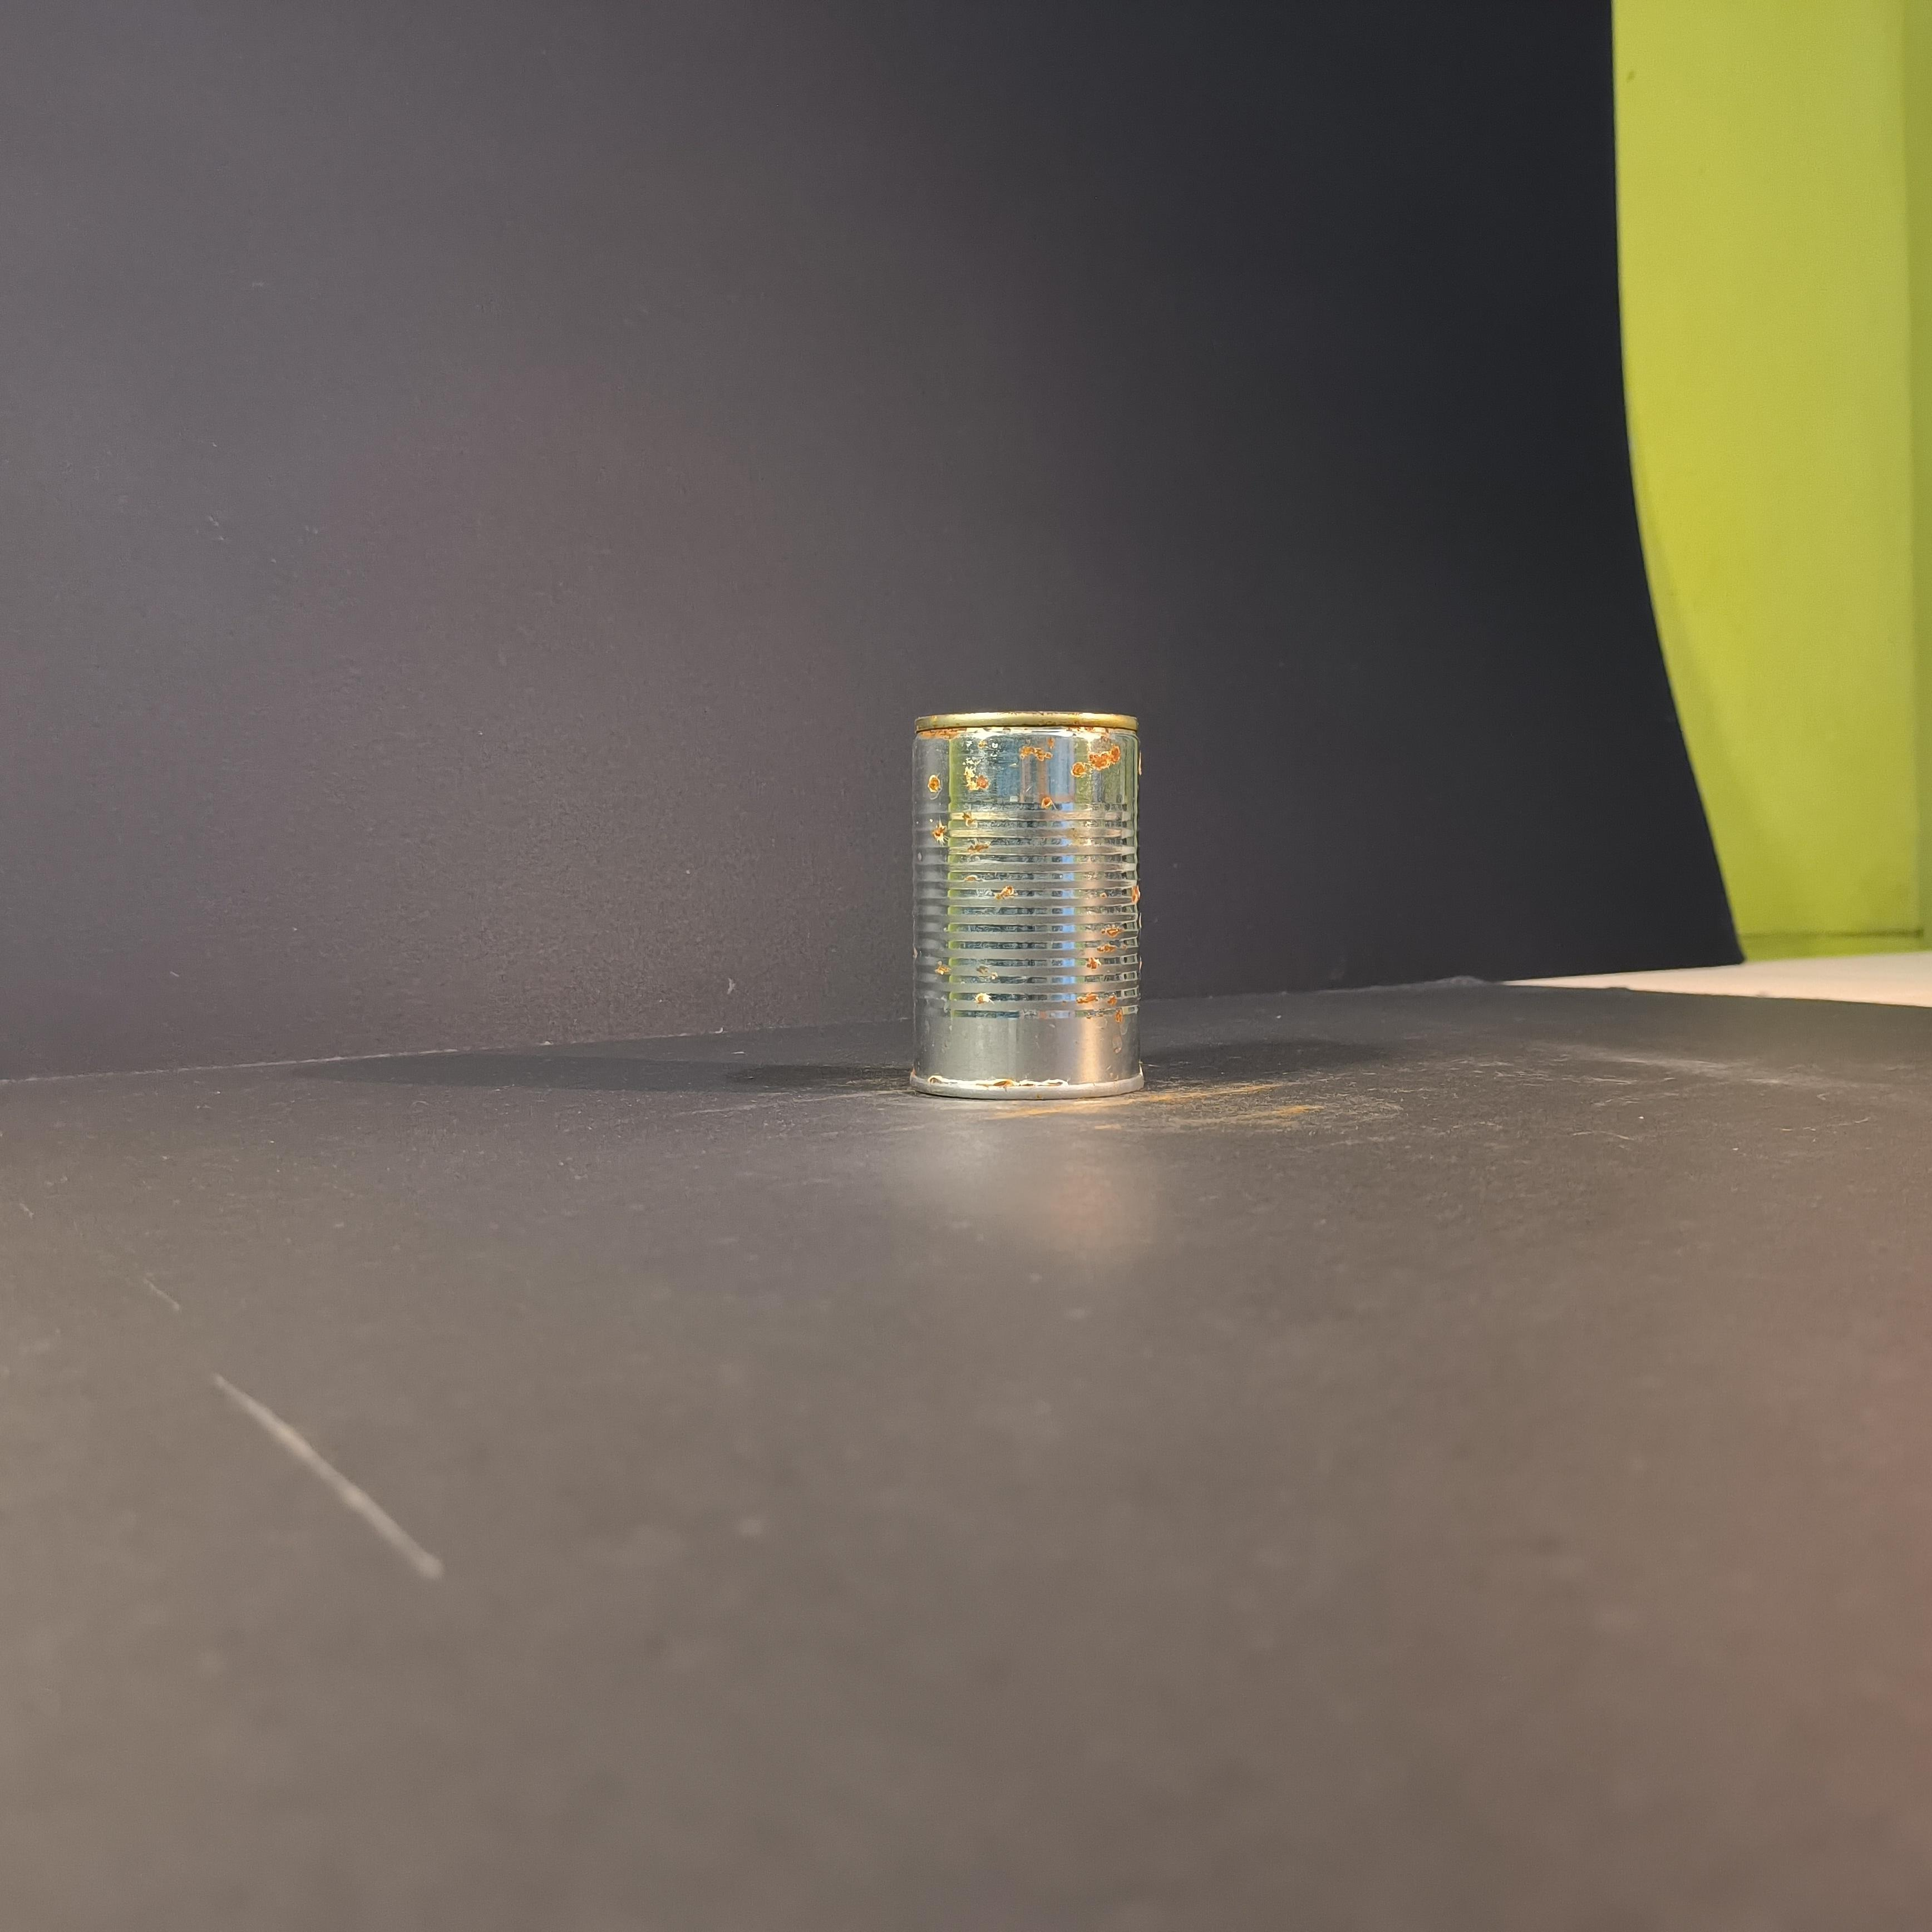Rusted: (899, 671, 1161, 1116)
